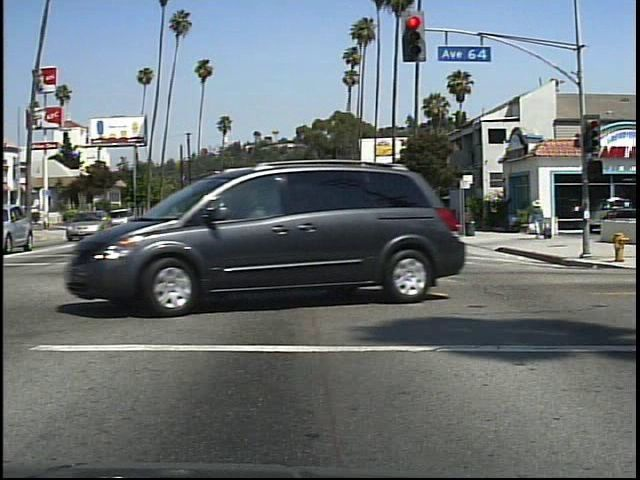person: (530, 195, 547, 244)
